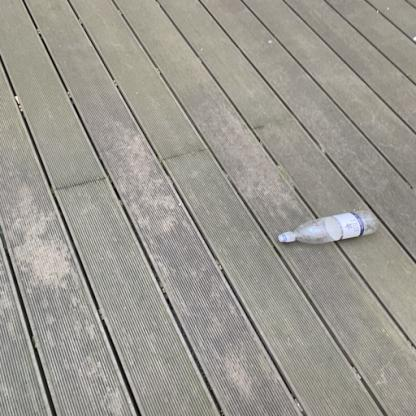trash: (270, 204, 384, 251)
